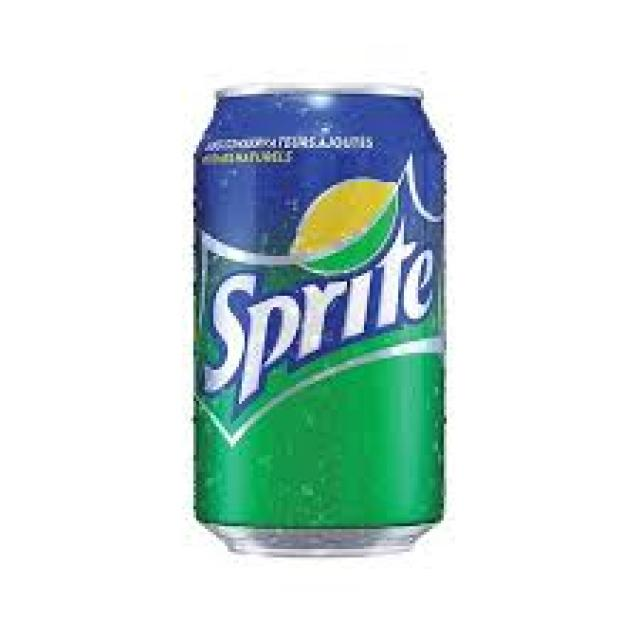aluminum_can: (196, 91, 447, 556)
